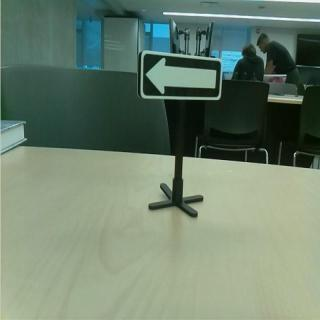sign_oneway_left: (138, 50, 226, 106)
